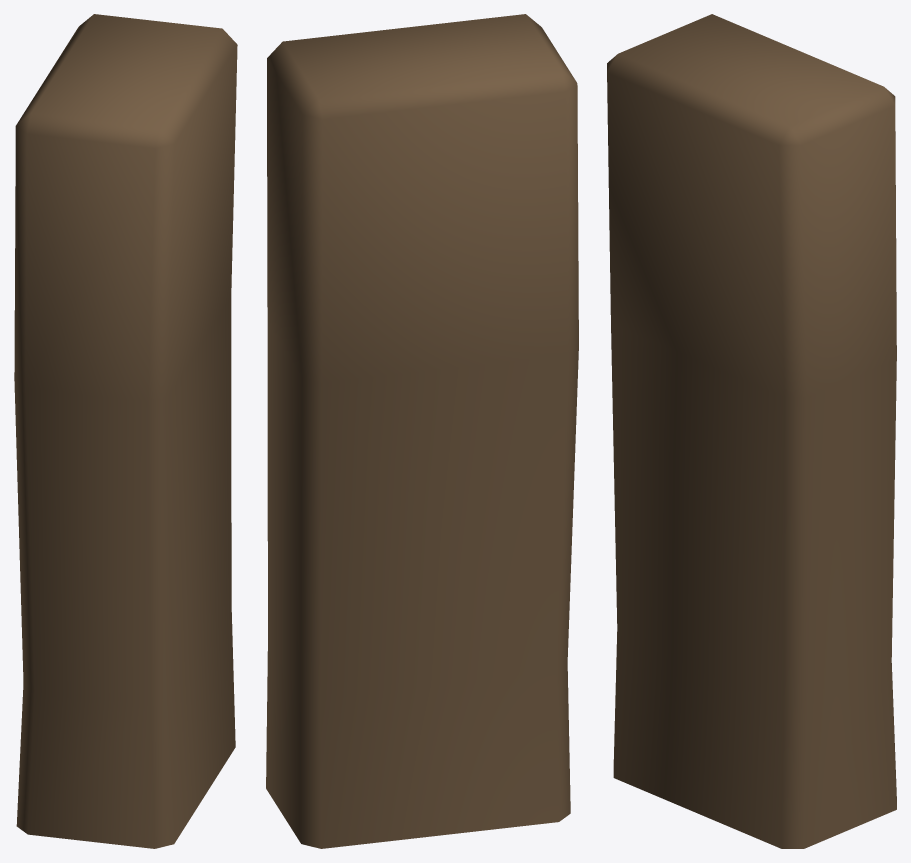
The model's file is rpgpp_ag_wall_connector_corner_01b_3m.fbx.
3 views of the same model, side by side, from view 1: azimuth 30°, elevation 25°; view 2: azimuth 150°, elevation 25°; view 3: azimuth 270°, elevation 25° (orthographic). The views are drawn at different scales.
Parts seen in each view (by area): view 1: rpgpp_ag_wall_connector_corner_01b_3m; view 2: rpgpp_ag_wall_connector_corner_01b_3m; view 3: rpgpp_ag_wall_connector_corner_01b_3m.
Boxes of the visible parts, box(x1,y1,x2,y2) form: rpgpp_ag_wall_connector_corner_01b_3m: box(14, 14, 237, 848); rpgpp_ag_wall_connector_corner_01b_3m: box(266, 14, 578, 848); rpgpp_ag_wall_connector_corner_01b_3m: box(607, 14, 896, 848).
Size of the model in its own units: 1.1 by 3 by 1.1.
